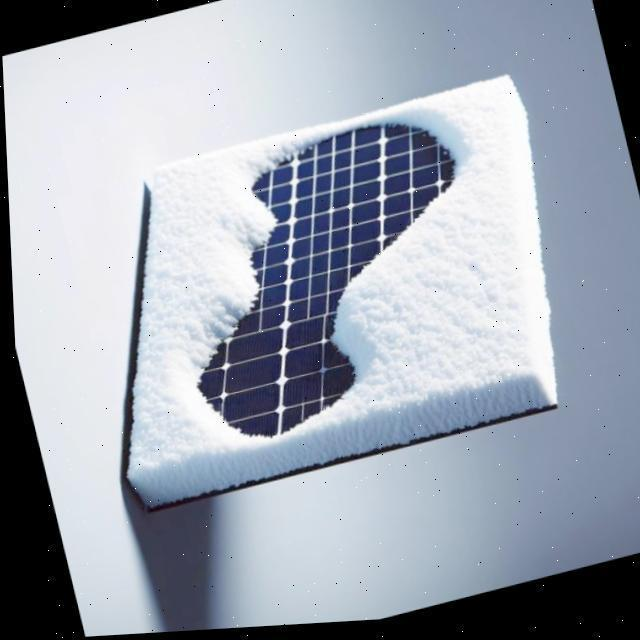Anomaly Solar Panel: (95, 117, 573, 512)
Snow: (58, 79, 593, 516)
